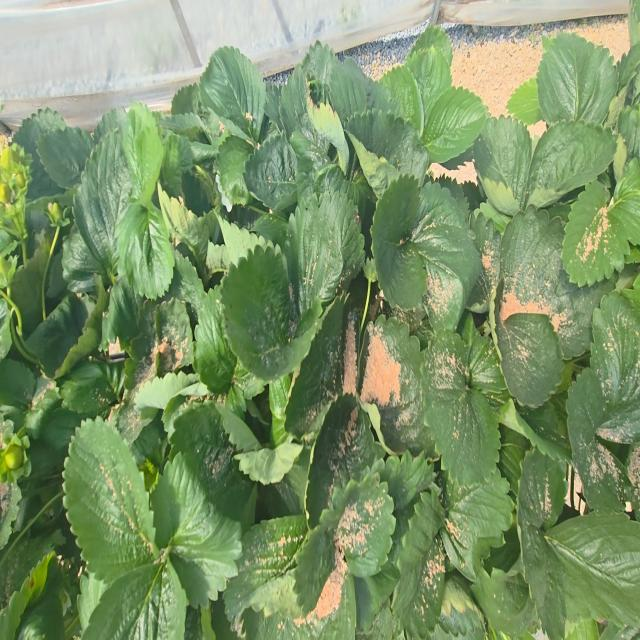Leaves: (498, 209, 614, 359), (63, 419, 159, 580), (151, 454, 242, 606), (422, 332, 499, 485), (220, 247, 309, 379), (283, 189, 364, 320), (546, 515, 640, 626), (411, 183, 480, 330), (172, 402, 254, 524), (286, 297, 357, 437), (567, 369, 637, 511), (307, 395, 382, 526), (518, 449, 567, 639), (360, 321, 430, 452), (494, 278, 564, 407), (223, 515, 307, 620), (245, 562, 356, 639), (82, 562, 187, 639), (441, 469, 513, 580), (75, 129, 132, 267), (371, 174, 427, 310), (590, 291, 640, 443), (528, 120, 615, 207), (561, 181, 632, 286), (537, 34, 617, 125), (200, 46, 266, 143), (473, 116, 533, 217), (338, 473, 395, 577), (115, 200, 174, 299), (348, 110, 429, 180), (421, 85, 488, 162), (13, 108, 67, 200), (471, 568, 537, 639), (122, 103, 164, 205), (329, 58, 389, 127), (244, 133, 297, 207), (466, 211, 501, 312), (37, 126, 93, 188), (406, 46, 452, 120), (379, 65, 424, 135), (268, 64, 307, 137), (608, 158, 640, 244), (214, 136, 253, 204), (410, 24, 452, 66), (506, 76, 542, 124), (301, 41, 339, 85)
Strawberries: (0, 434, 29, 482), (9, 162, 27, 204), (45, 203, 66, 226), (0, 146, 14, 171), (0, 183, 12, 205)
